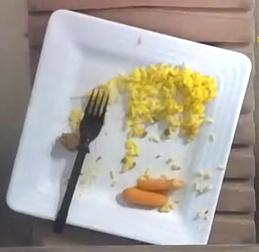carrots: (123, 174, 184, 207)
rice: (115, 63, 216, 139)
